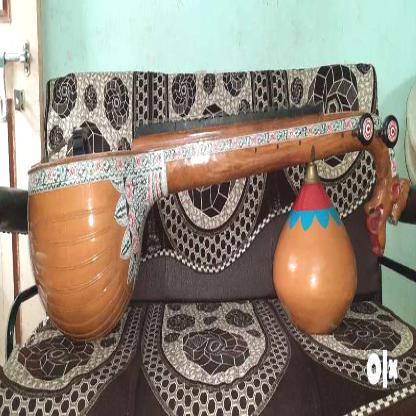Veena: (19, 113, 399, 237)
